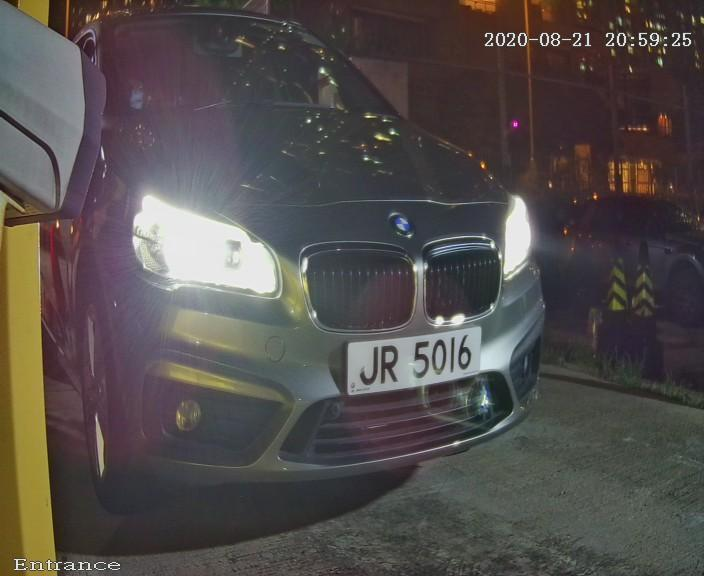Car: (29, 21, 601, 515)
License Plate: (323, 306, 499, 414)
